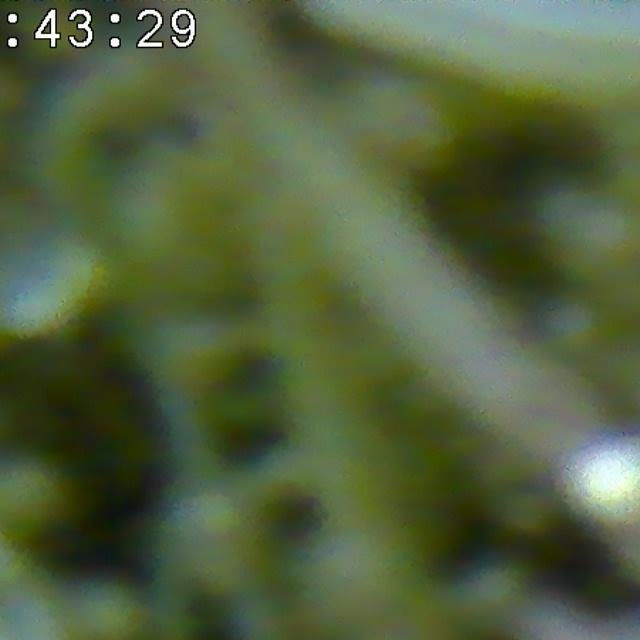SeaGrape: (148, 476, 269, 605), (355, 69, 472, 179), (539, 293, 612, 365), (68, 585, 139, 640)
